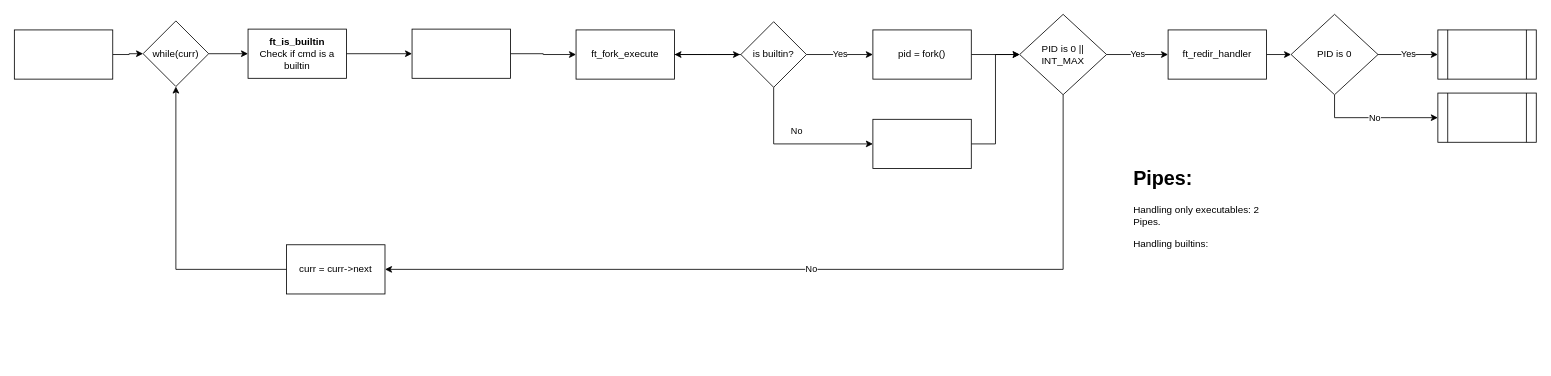
Image size: 1551x376. Some labels were removed from this diagram. The shapes that lost their labels are listed below. From the top down, each one's centre as x and y in pixels, then its label:
(x=63, y=54): ft_executor
(x=460, y=53): ft_ex_prio check the priorities of redirects
(x=1486, y=54): ft_execute
(x=1486, y=117): ft_builtin
(x=921, y=143): pid = INT_MAX
